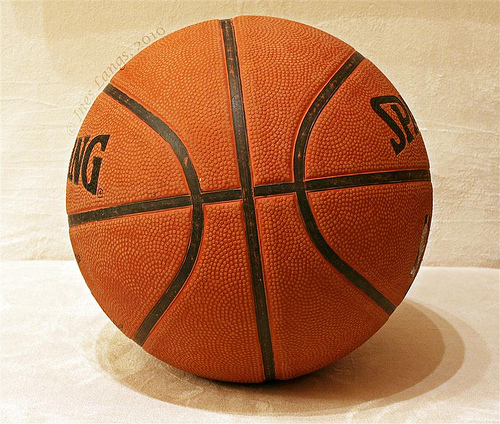basketball: (63, 14, 433, 386)
